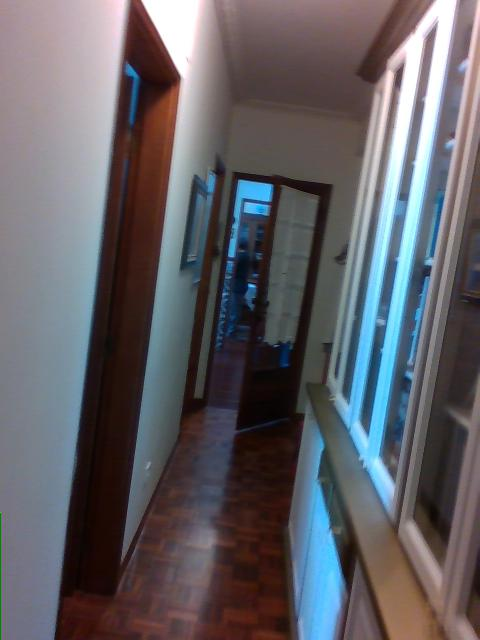semi_door: (198, 169, 328, 429)
